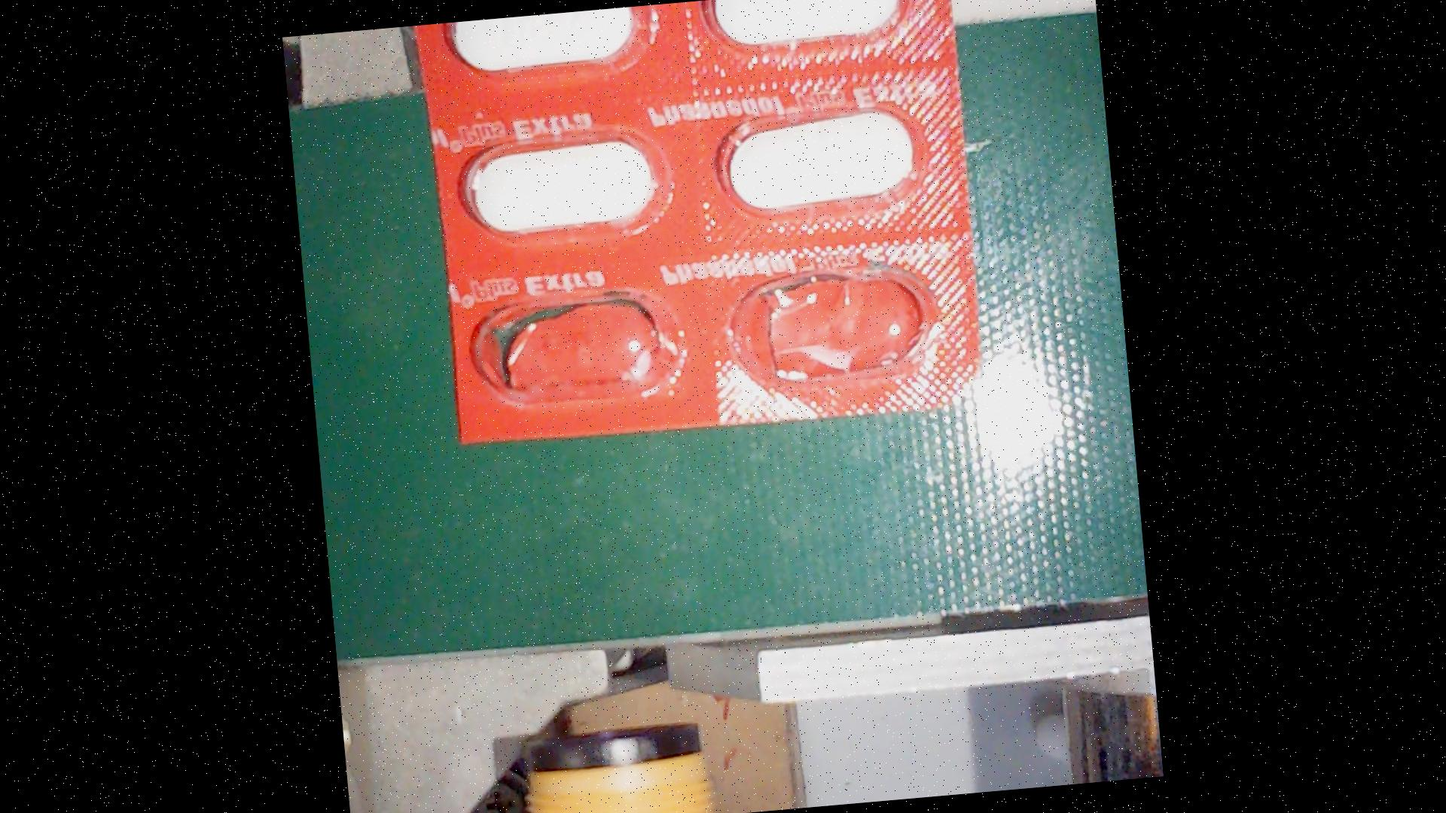Empty: (468, 274, 694, 417), (718, 249, 944, 392)
Full: (450, 115, 676, 258), (711, 81, 936, 224), (438, 5, 656, 95), (696, 0, 914, 66)
